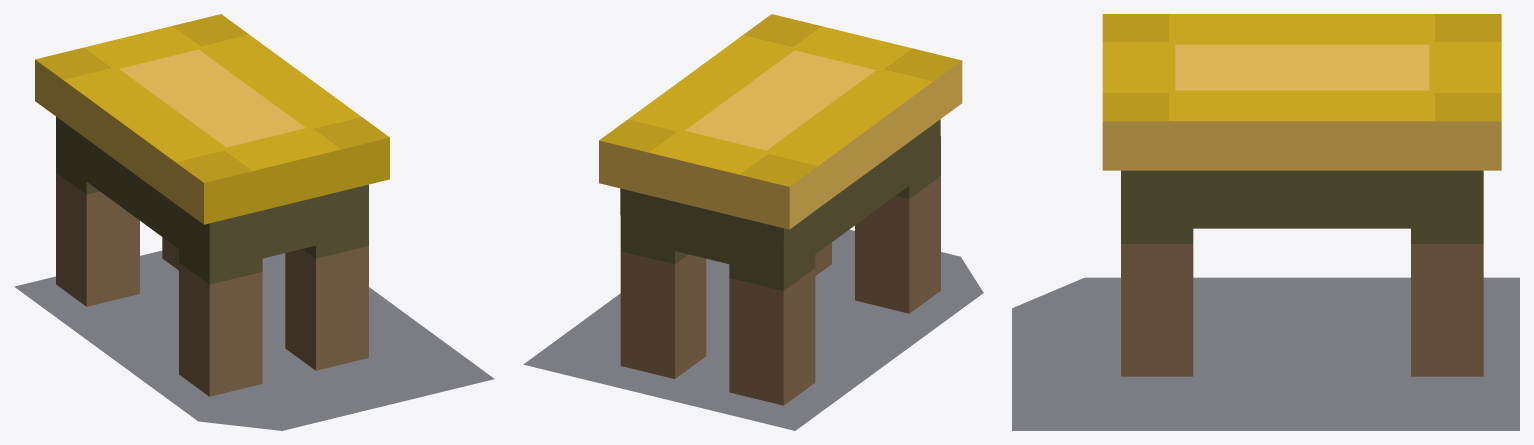
Rendered from modelo.obj.
The picture shows the model from 3 angles, left to right: view 1: azimuth 30°, elevation 25°; view 2: azimuth 150°, elevation 25°; view 3: azimuth 270°, elevation 25°; orthographic projection. The views are drawn at different scales.
Visible parts, largest first — view 1: polygon1, polygon0; view 2: polygon1, polygon0; view 3: polygon1, polygon0.
Boxes of the visible parts, left/top/right/bottom form: polygon1: left=35, top=14, right=389, bottom=396; polygon0: left=14, top=250, right=493, bottom=430; polygon1: left=599, top=14, right=962, bottom=405; polygon0: left=523, top=229, right=983, bottom=430; polygon1: left=1102, top=14, right=1501, bottom=376; polygon0: left=1012, top=277, right=1519, bottom=430.
Size of the model in its own units: 20 by 16.5 by 28.
2 materials, 2 textured.
